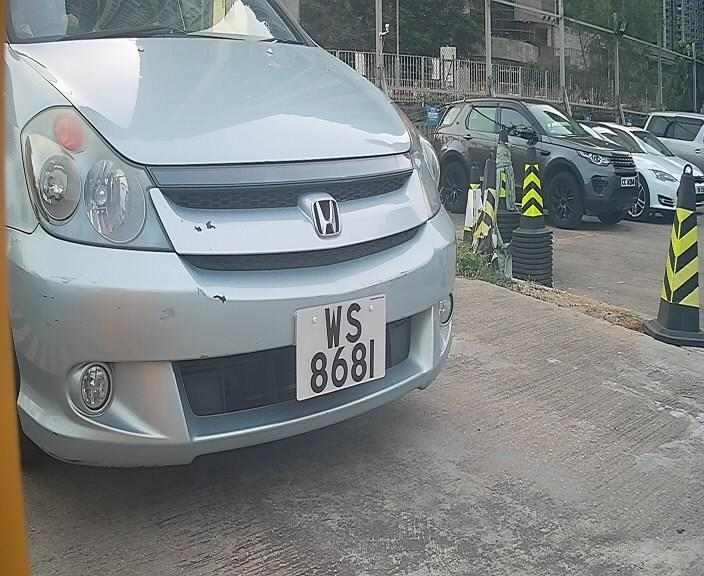privatecar: (1, 11, 491, 489)
